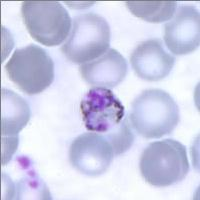Infected: (79, 86, 126, 133)
Uninfected: (5, 44, 54, 98), (131, 90, 179, 137), (61, 16, 110, 61), (69, 134, 113, 178), (131, 39, 176, 81), (139, 143, 179, 187), (28, 6, 72, 46), (80, 48, 126, 86), (166, 5, 200, 54), (0, 85, 33, 135), (21, 0, 64, 32), (162, 138, 189, 181)
